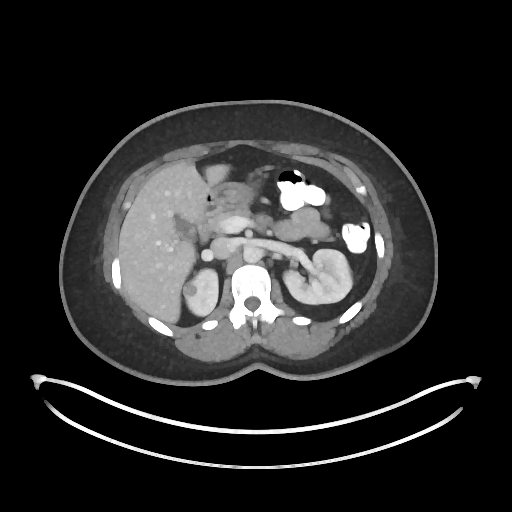Lesion: (183, 283, 198, 297)
